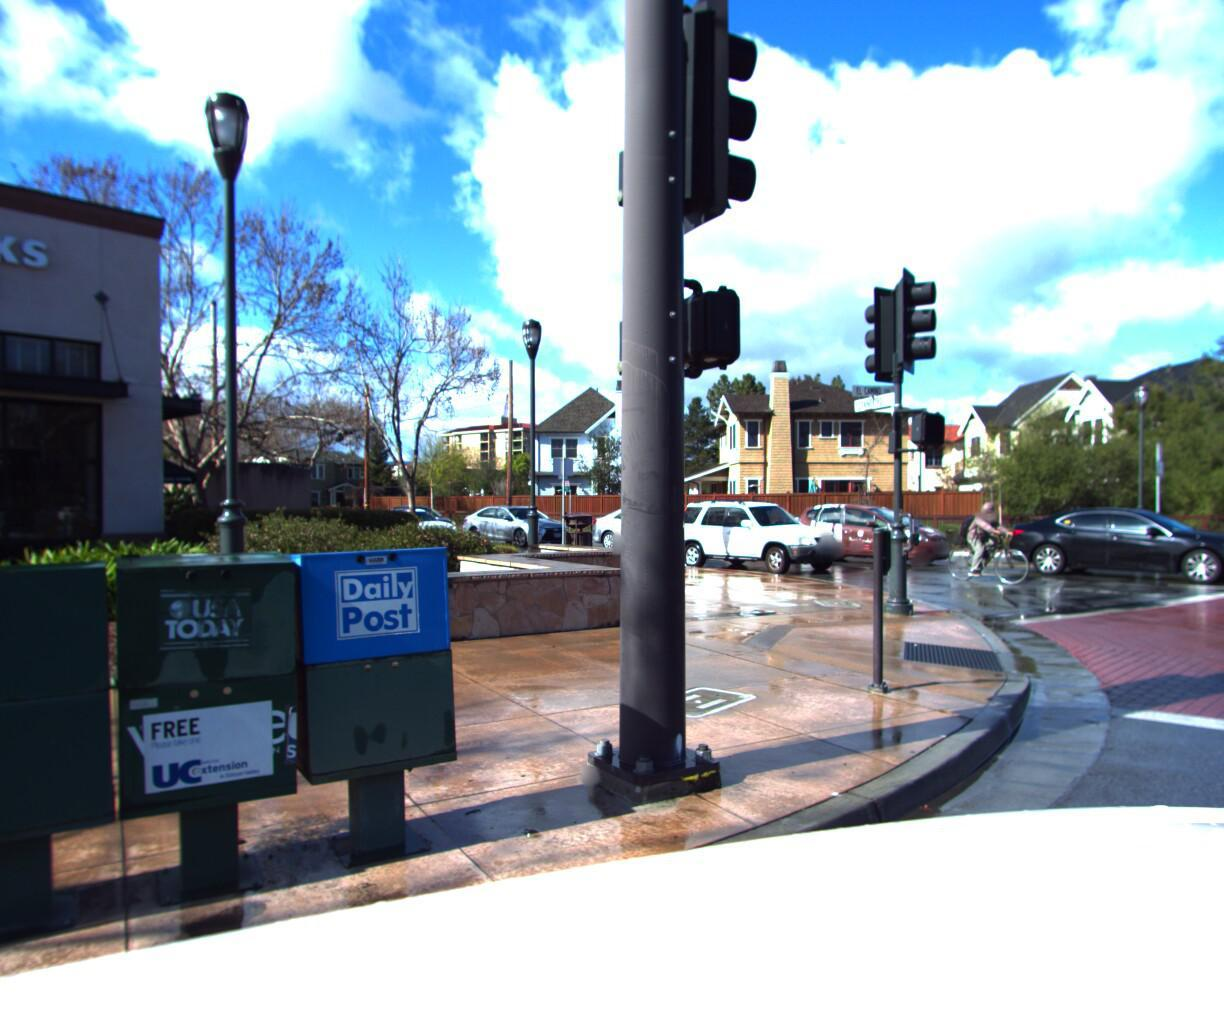bicycle: (943, 494, 1040, 582), (0, 540, 11, 751)
car: (1000, 498, 1224, 585), (655, 494, 851, 576), (786, 493, 975, 566), (585, 497, 745, 554), (455, 499, 584, 546), (350, 497, 463, 548)
